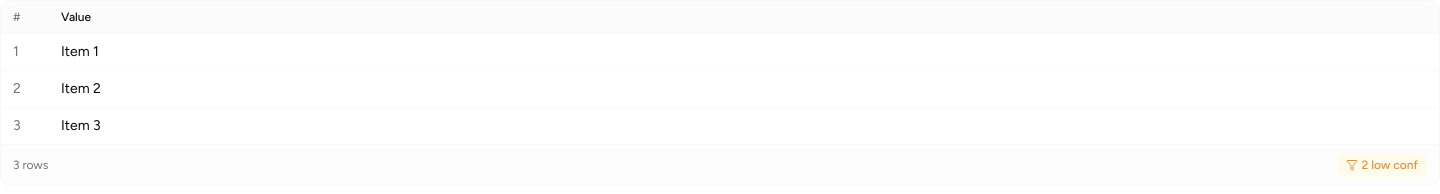
Test case: PrimitiveArrayEditor - filter toggle › filters to low confidence rows when badge is clicked
Expected: the text "Item 1" is shown, [61, 43, 99, 60]
Expected: the text "Item 2" is shown, [61, 80, 101, 97]
// Click filter badge
Click the text "2 low conf".
click(1382, 165)  # box [1337, 153, 1427, 177]
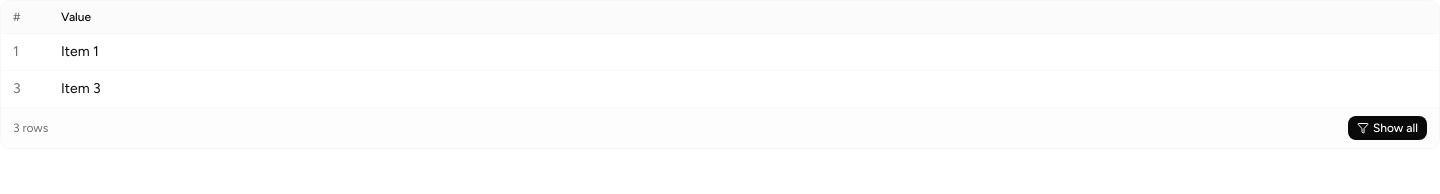
Expected: the text "Item 1" is shown, [61, 43, 99, 60]
Now the text "Item 2" is gone
